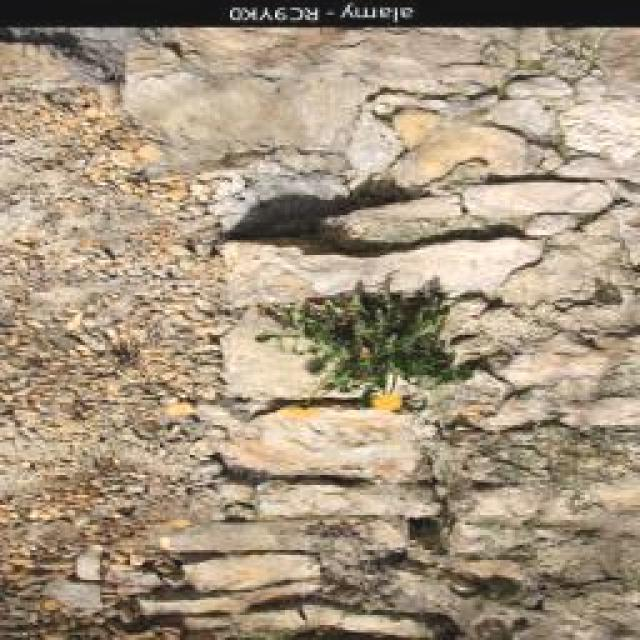crack: (1, 26, 638, 638), (115, 28, 640, 228), (381, 39, 618, 132), (153, 517, 330, 562), (163, 549, 321, 599), (545, 273, 635, 326), (368, 81, 504, 115), (99, 29, 132, 139), (40, 573, 108, 617)
dampens: (54, 539, 199, 632)
dampness: (3, 288, 119, 381)
vegetation: (255, 269, 472, 406), (121, 70, 292, 160), (201, 160, 360, 245), (267, 66, 393, 161), (149, 26, 384, 74), (1, 32, 127, 101), (483, 29, 611, 89), (221, 242, 346, 301), (341, 46, 475, 98), (3, 187, 62, 251)
